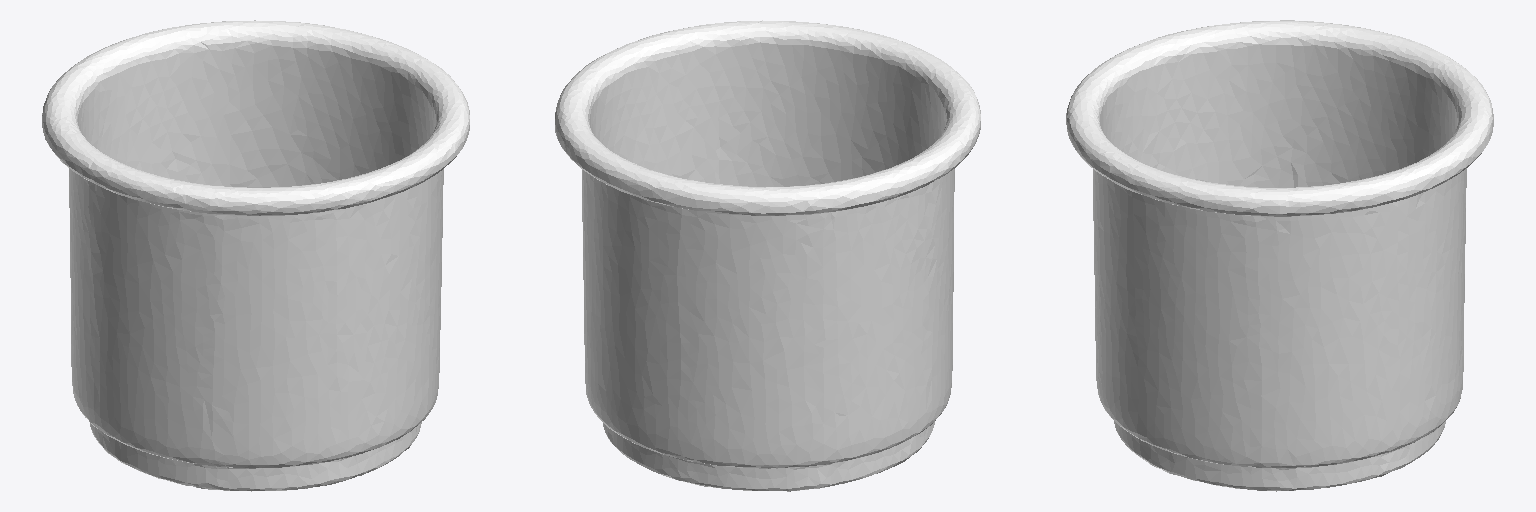
The robot description file, URDF, robot "072-d_toy_airplane":
<robot name="072-d_toy_airplane">
	<link name="_name">
		<visual>
			<origin xyz="0.2223323227368506 -0.014562790387810325 -0.2130339450857217" rpy="0 0 0" />
			<geometry>
				<mesh filename="072-d_toy_airplane/google_16k/textured.obj" scale="10 10 10" />
			</geometry>
			<material name="texture">
				<color rgba="1.0 1.0 1.0 1.0" />
			</material>
		</visual>
		<collision>
			<geometry>
				<mesh filename="072-d_toy_airplane/google_16k/textured_vhacd.obj" scale="10 10 10" />
			</geometry>
		<origin xyz="0.2223323227368506 -0.014562790387810325 -0.2130339450857217" rpy="0 0 0" /></collision>
		<inertial>
			<mass value="1.0" />
			<inertia ixx="1.0" ixy="0.0" ixz="0.0" iyy="1.0" iyz="0.0" izz="1.0" />
		</inertial>
	</link>
</robot>

--- What the picture shows (computed from the rendered views, not written in the file) ---
The picture shows the robot from 3 angles, left to right: view 1: azimuth 30°, elevation 25°; view 2: azimuth 150°, elevation 25°; view 3: azimuth 270°, elevation 25°; orthographic projection.
Robot: 072-d_toy_airplane — 1 links, 0 joints (none); root link _name; default pose: all joints at 0.
Links seen in each view (by area): view 1: _name; view 2: _name; view 3: _name.
Link boxes in pixels (x1,y1,x2,y2): _name: (42, 20, 469, 491); _name: (555, 20, 980, 491); _name: (1066, 20, 1493, 491).
Size in the robot's own frame: 0.915 by 0.9162 by 0.7506 metres.
Meshes: 1 distinct files referenced, 1 mesh visuals loaded (1 OBJ).